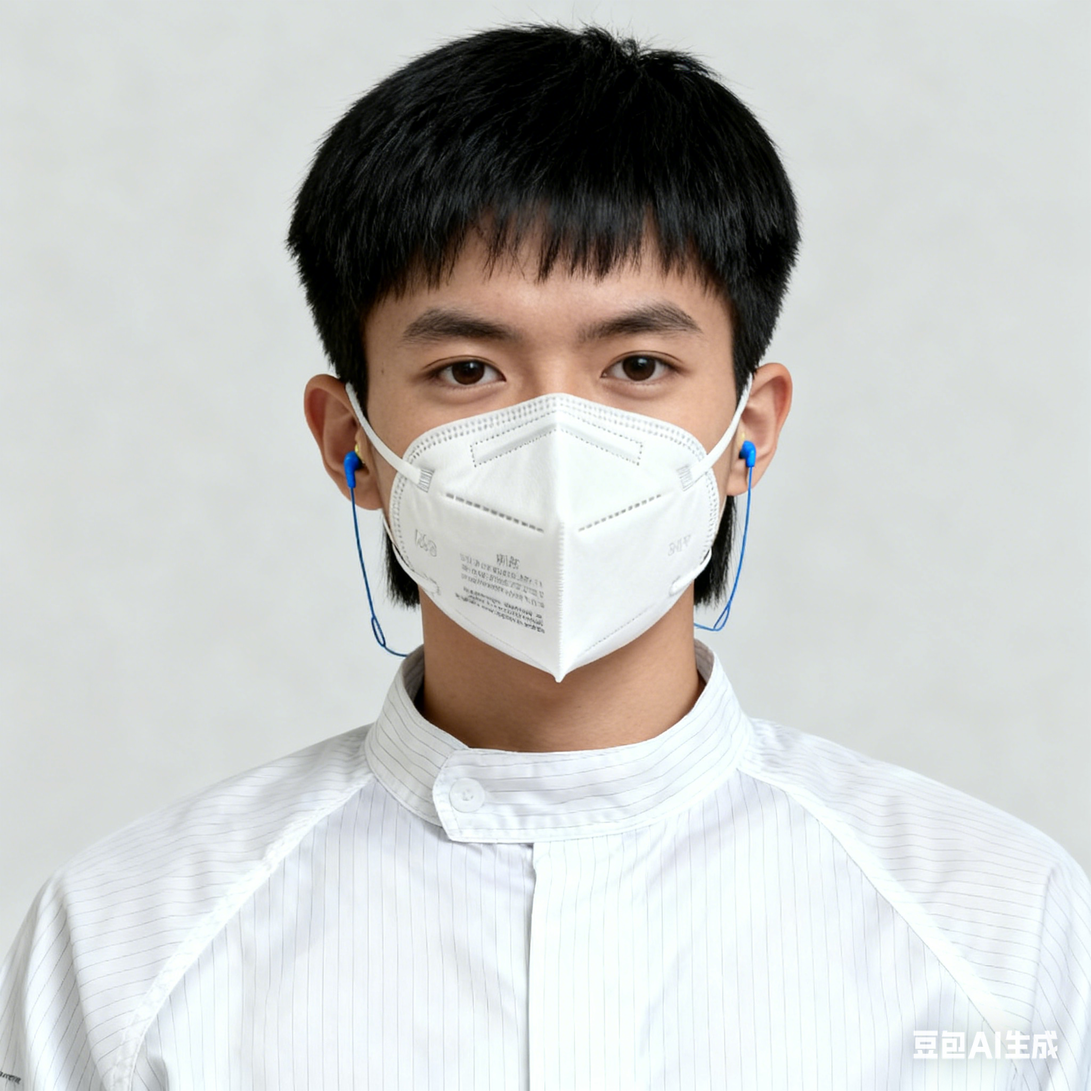MASK: (382, 393, 724, 675)
